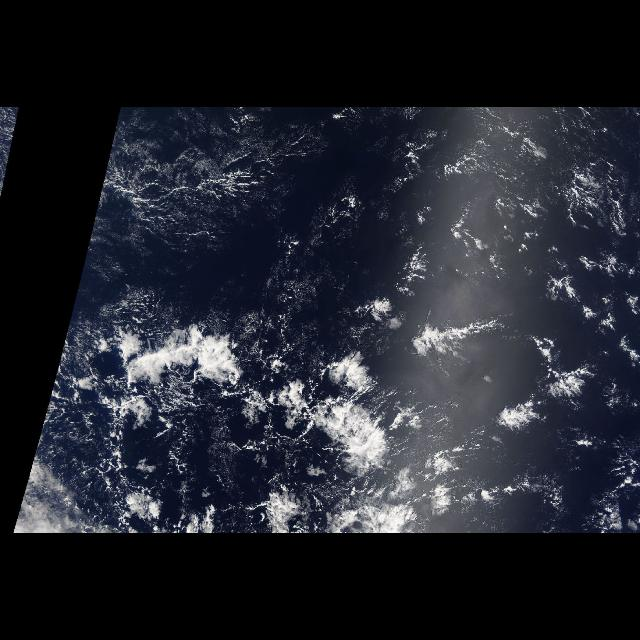Gravel: (93, 326, 397, 528)
Sugar: (125, 120, 309, 250)
